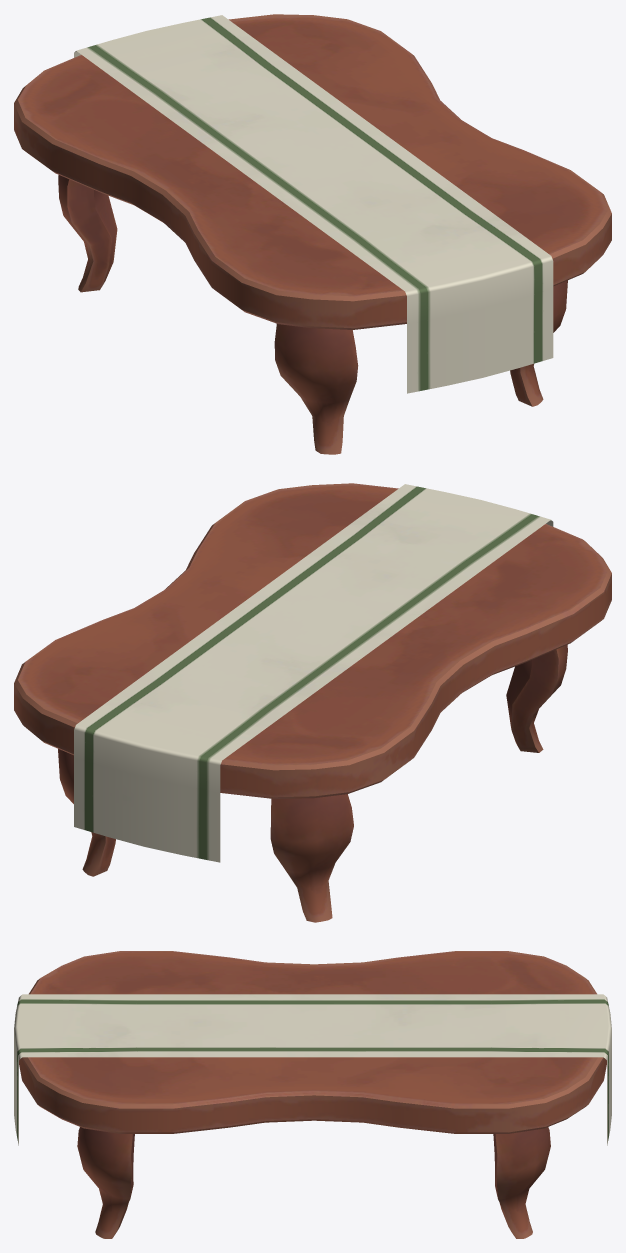
The model's file is CofeeTableWithCloth.fbx.
The picture shows the model from 3 angles, top to bottom: view 1: azimuth 30°, elevation 25°; view 2: azimuth 150°, elevation 25°; view 3: azimuth 270°, elevation 25°; orthographic projection. The views are drawn at different scales.
Visible parts, largest first — view 1: CofeeTableWithCloth, tableCloth, tableLeg1, tableLeg3 (1), tableLeg; view 2: CofeeTableWithCloth, tableCloth, tableLeg3 (1), tableLeg1, tableLeg3; view 3: CofeeTableWithCloth, tableCloth, tableLeg, tableLeg3.
Part boxes in pixels (x1,y1,x2,y2): CofeeTableWithCloth: (14,14,611,329); tableCloth: (74,15,553,393); tableLeg1: (274,324,358,454); tableLeg3 (1): (58,175,117,292); tableLeg: (510,280,567,406); CofeeTableWithCloth: (14,483,611,798); tableCloth: (74,484,553,862); tableLeg3 (1): (270,794,353,922); tableLeg1: (506,644,567,752); tableLeg3: (58,749,115,876); CofeeTableWithCloth: (19,951,606,1133); tableCloth: (14,994,611,1145); tableLeg: (77,1127,134,1238); tableLeg3: (493,1127,550,1238).
Bounding box in the file's own units: 8.17 × 4.02 × 13.22.
